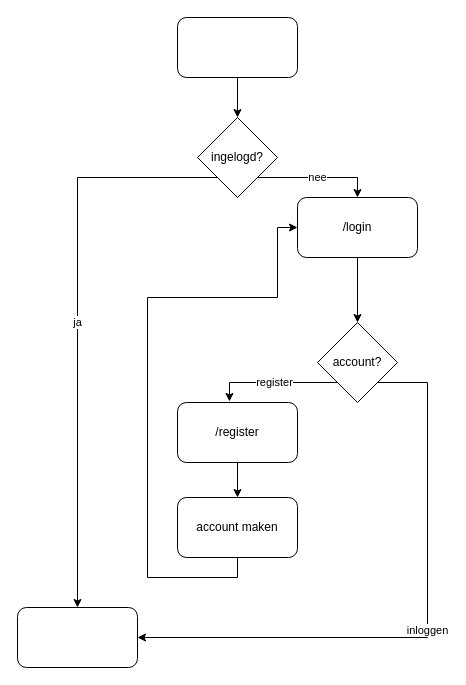
Image size: 466x685. Some labels were removed from this diagram. The box of each missing label's shape, as (x1, y1, x2, y2) in pixels:
/user: (16, 606, 138, 668)
Home.html: (176, 16, 298, 78)
